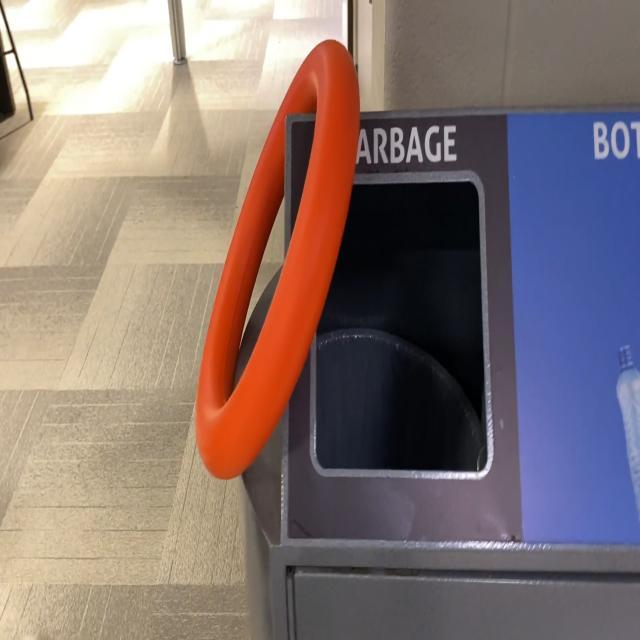note: (193, 38, 360, 482)
